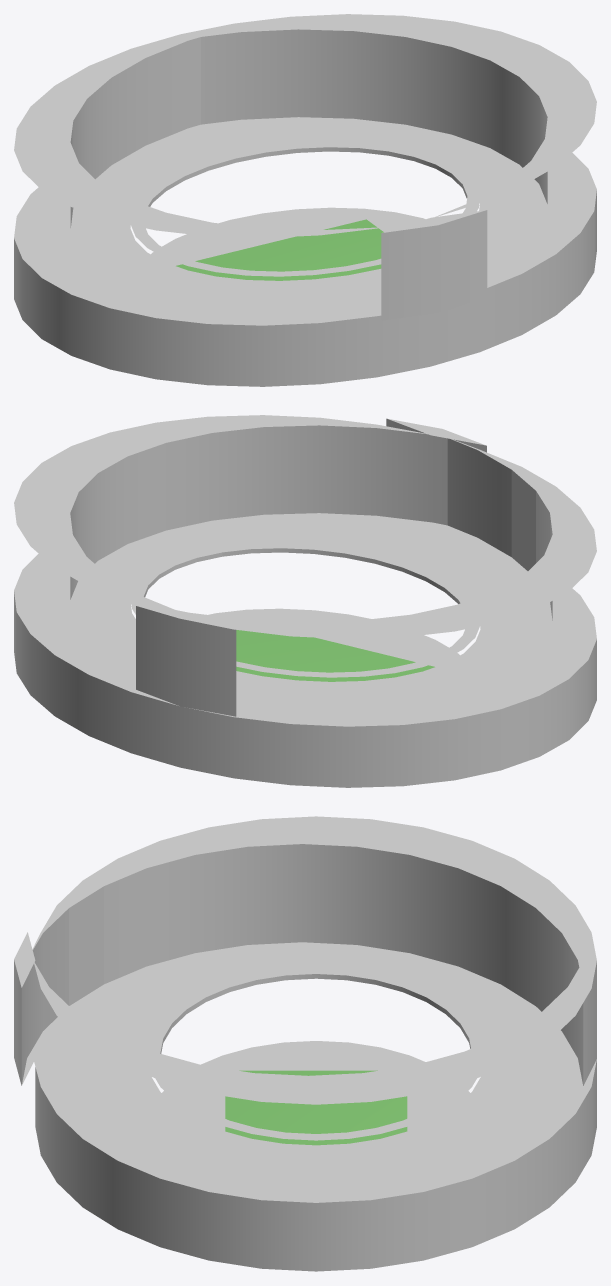
Rendered from Cancha2.glb.
3 renders of one model, top to bottom at view 1: azimuth 30°, elevation 25°; view 2: azimuth 150°, elevation 25°; view 3: azimuth 270°, elevation 25°, orthographic. The views are drawn at different scales.
Parts seen in each view (by area): view 1: Cylinder.002, Cube; view 2: Cylinder.002, Cube; view 3: Cylinder.002, Cube.
Part boxes in pixels (<box>): Cylinder.002: <box>14,14,596,386</box>; Cube: <box>176,219,383,280</box>; Cylinder.002: <box>14,415,596,787</box>; Cube: <box>236,630,434,681</box>; Cylinder.002: <box>14,816,596,1271</box>; Cube: <box>225,1070,407,1145</box>.
Bounding box in the file's own units: 337 × 114 × 288.
1 material, 1 textured.
